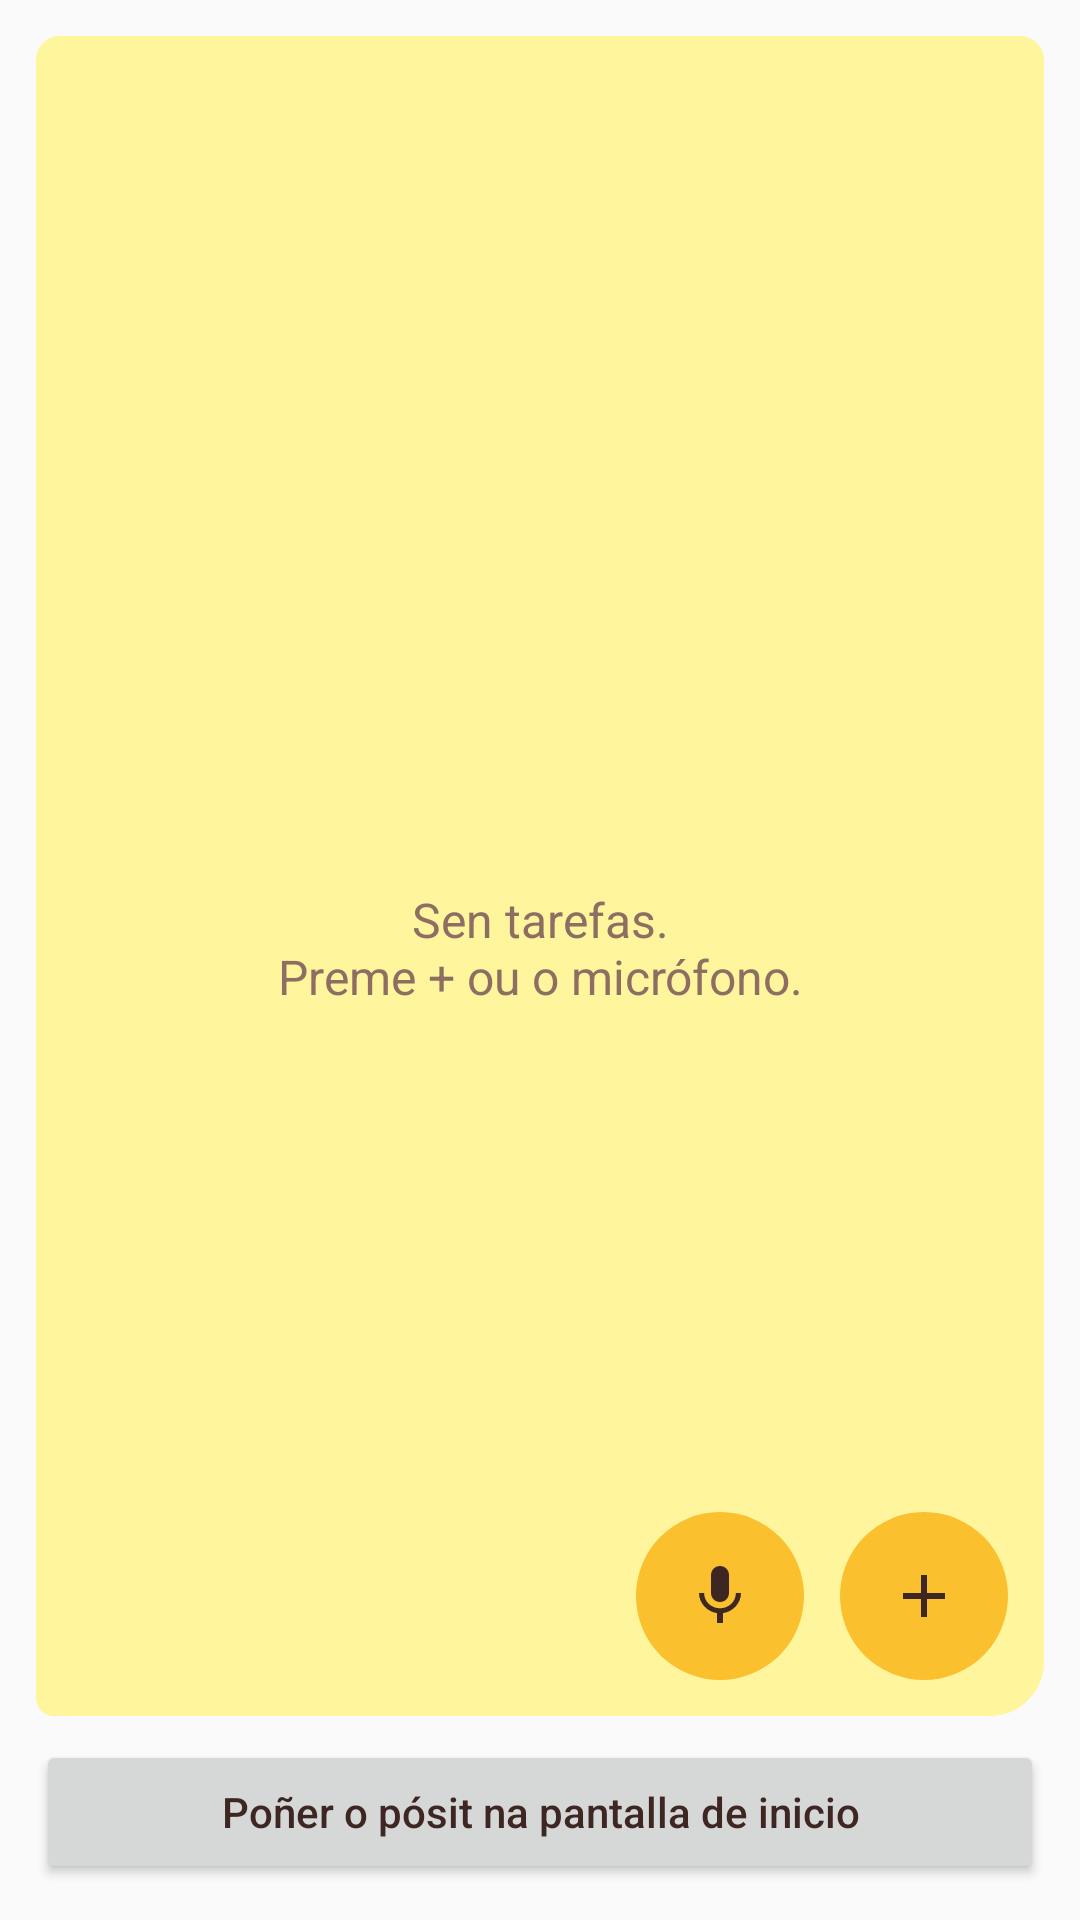

Icons on this 1080px×1920px Android screen, each with the point to tap as (x=x, y=y):
Ditar tarefa: (x=720, y=1596)
Nova tarefa: (x=924, y=1596)
